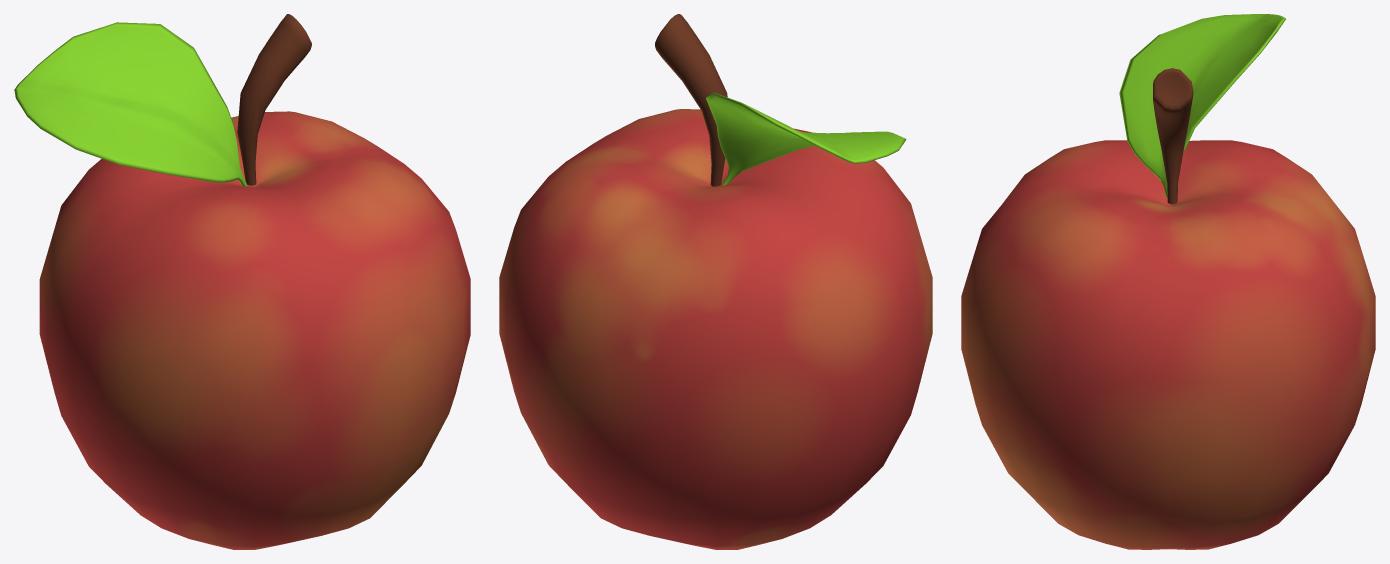
File: Apple_obj.obj
3 views of the same model, side by side, from view 1: azimuth 30°, elevation 25°; view 2: azimuth 150°, elevation 25°; view 3: azimuth 270°, elevation 25° (orthographic). The views are drawn at different scales.
Parts seen in each view (by area): view 1: Apple; view 2: Apple; view 3: Apple.
Part boxes in pixels (x1,y1,x2,y2): Apple: [14, 14, 470, 549]; Apple: [499, 14, 932, 549]; Apple: [961, 14, 1375, 549].
Bounding box in the file's own units: 0.8791 × 1.07 × 0.8492.
